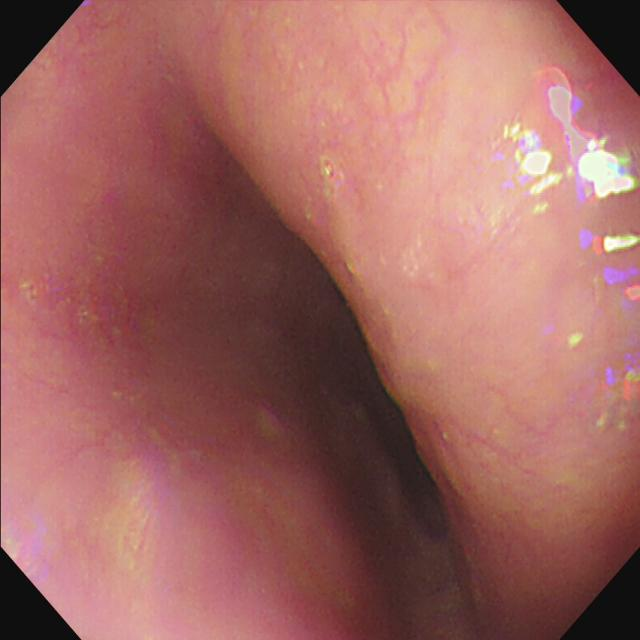E: (364, 393, 443, 498)
U: (548, 89, 640, 201), (505, 124, 562, 217), (580, 229, 640, 253)
